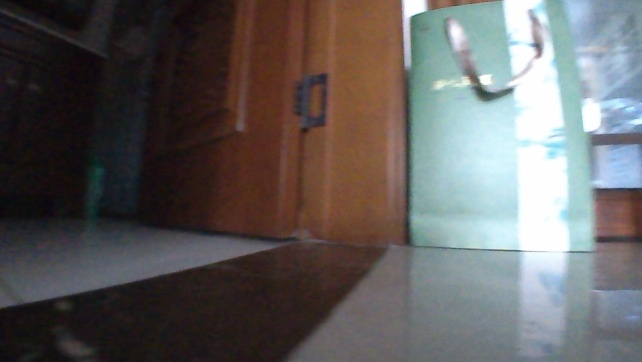door: (135, 0, 410, 247)
